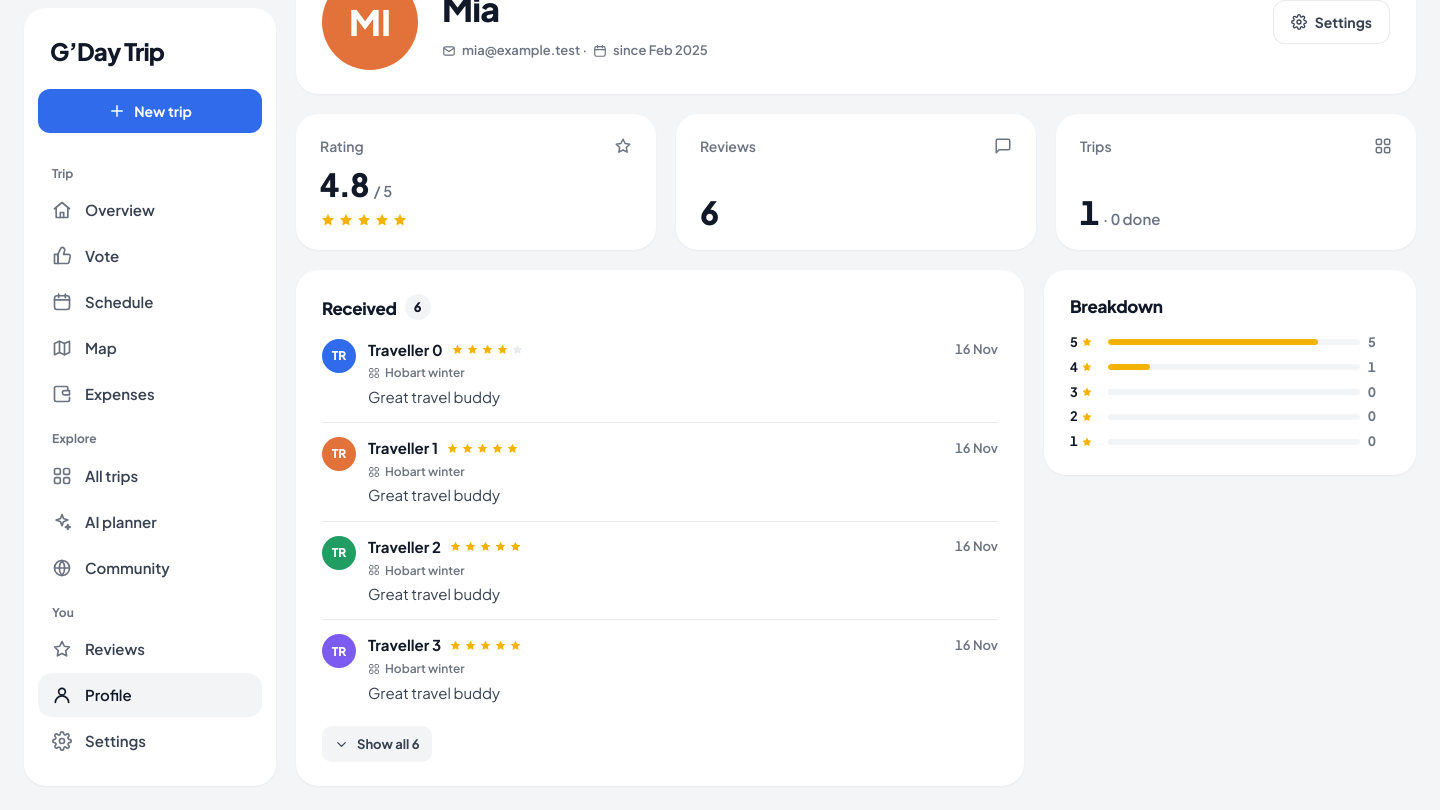
Test case: Profile › shows rating with stars, review count, trips and only the latest few reviews until expanded
The image size is (1440, 810).
(page scrolled)
Check: the navigation bar with id "auth" is shown, box [38, 673, 262, 717]
Check: the text "4.8" is shown, box [320, 164, 369, 204]
Click the button "Show all 6".
click(377, 744)  # box [322, 726, 432, 762]
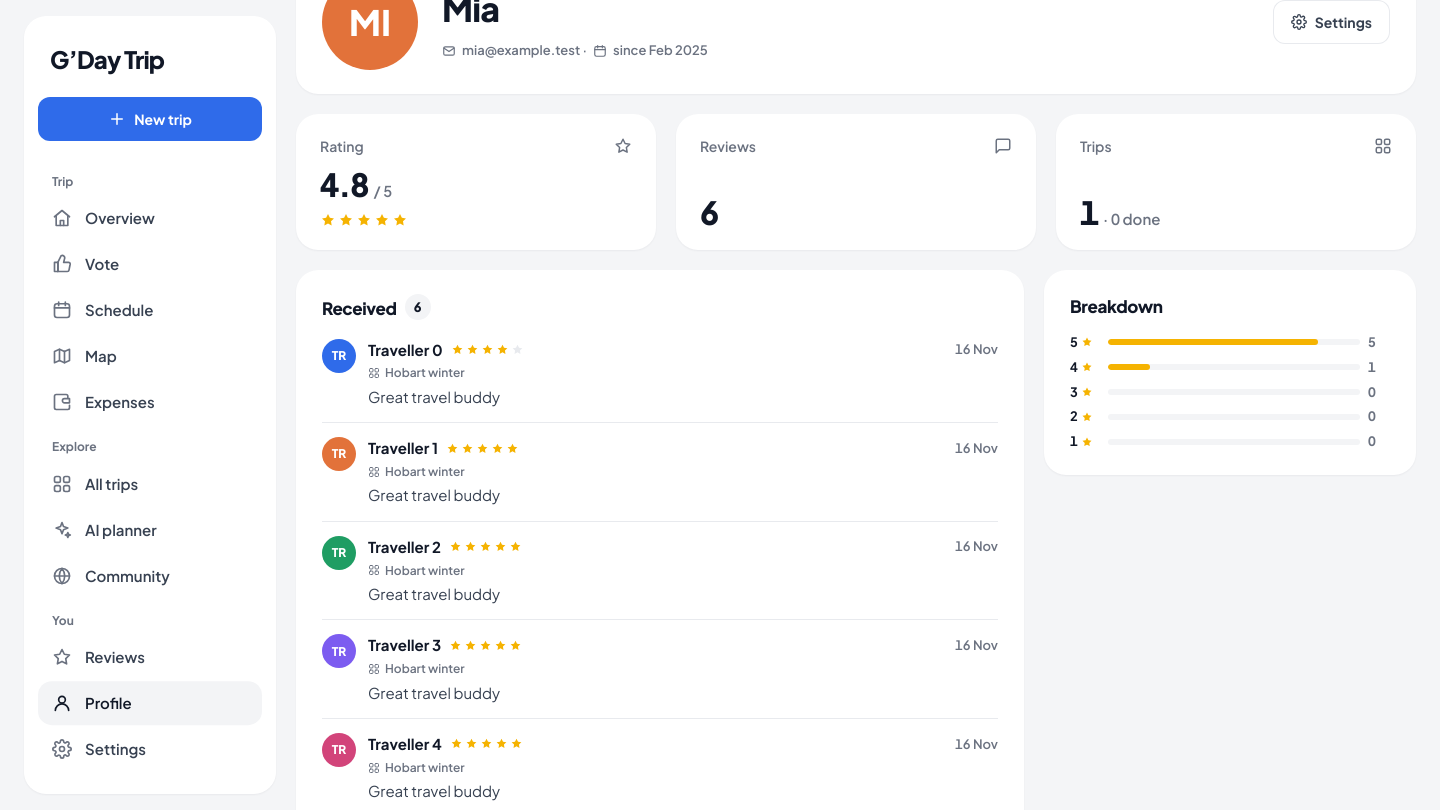
Check: the number of elements with class "rv-row" is 6
